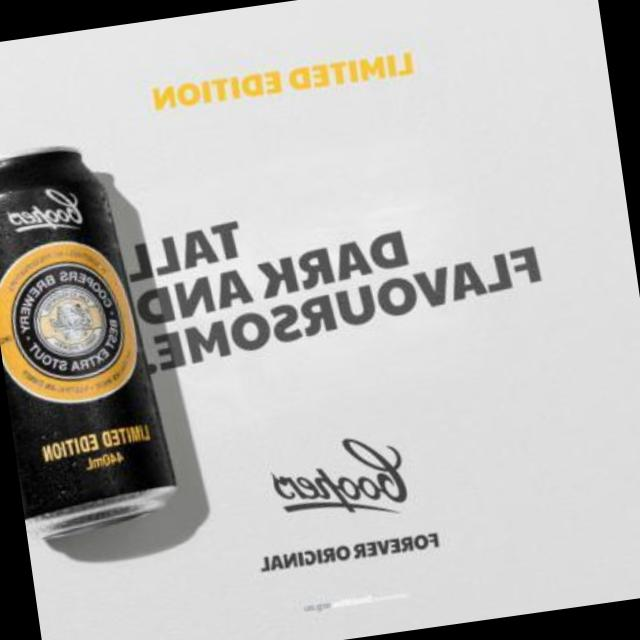metal: (0, 148, 175, 515)
